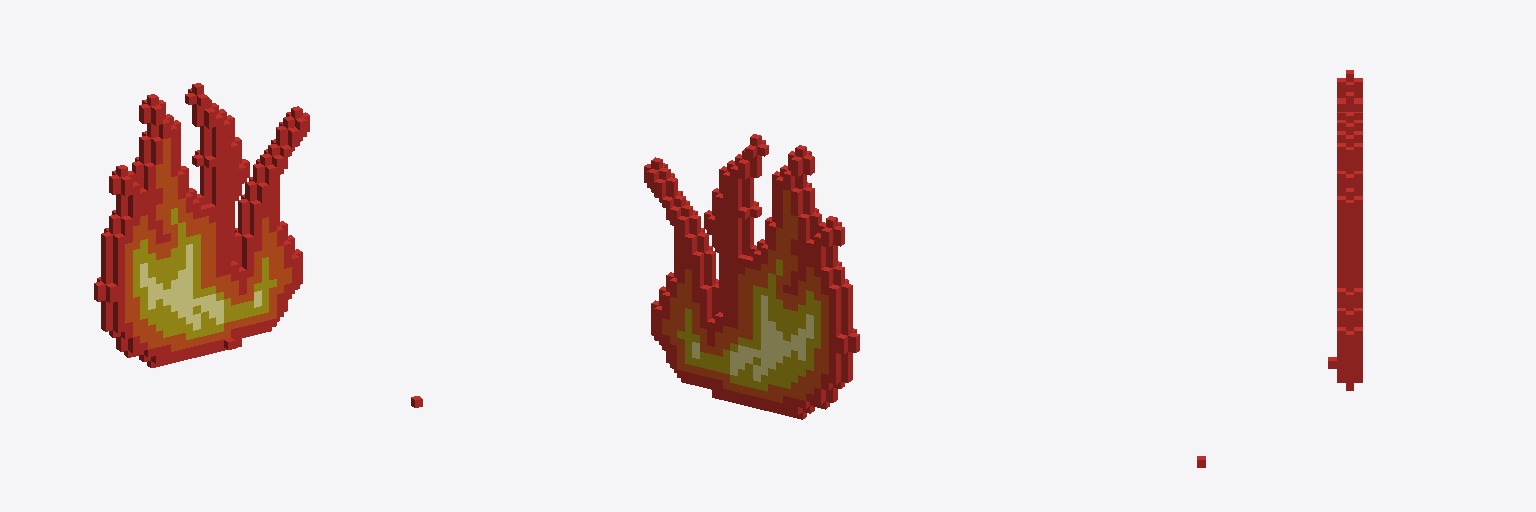
3 renders of one model, left to right at view 1: azimuth 30°, elevation 25°; view 2: azimuth 150°, elevation 25°; view 3: azimuth 270°, elevation 25°, orthographic.
Visible parts, largest first — view 1: Model; view 2: Model; view 3: Model.
Part boxes in pixels (x1,y1,x2,y2): Model: (94, 83, 422, 407); Model: (644, 134, 859, 419); Model: (1197, 70, 1362, 467).
Bounding box in the file's own units: 21.12 × 24.32 × 12.16.
1 materials, 1 textured.